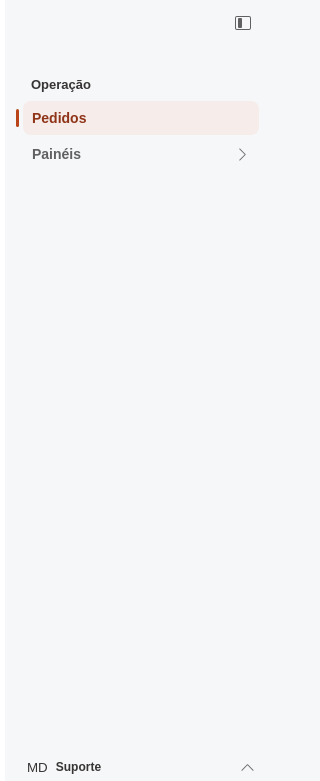
it: Sidebar: pilha com vários níveis › entrar num ramo dentro de outro mostra os filhos dele, com o voltar no rótulo do pai
Click the button "Painéis": (141, 154) top-left (23, 137), bottom-right (259, 171)
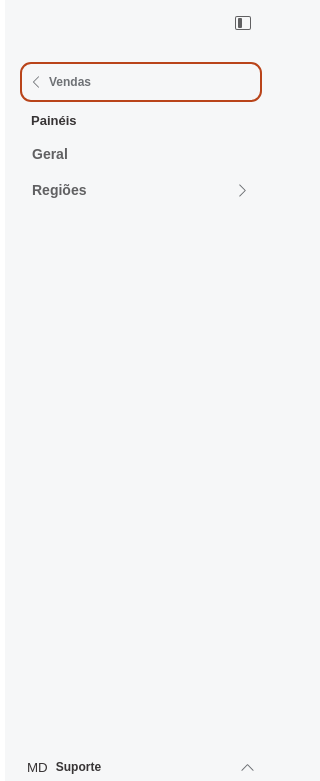
Click the button "Regiões": (141, 190) top-left (23, 173), bottom-right (259, 207)
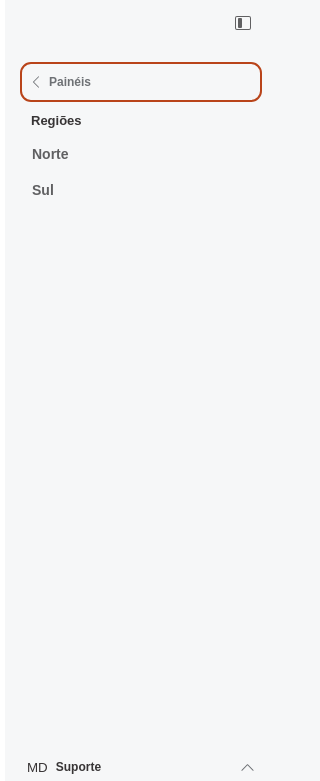
Expected: the link "Norte" is shown, top-left (32, 146), bottom-right (69, 162)
Expected: the link "Sul" is shown, top-left (32, 182), bottom-right (54, 198)
Expected: the link "Geral" is gone
